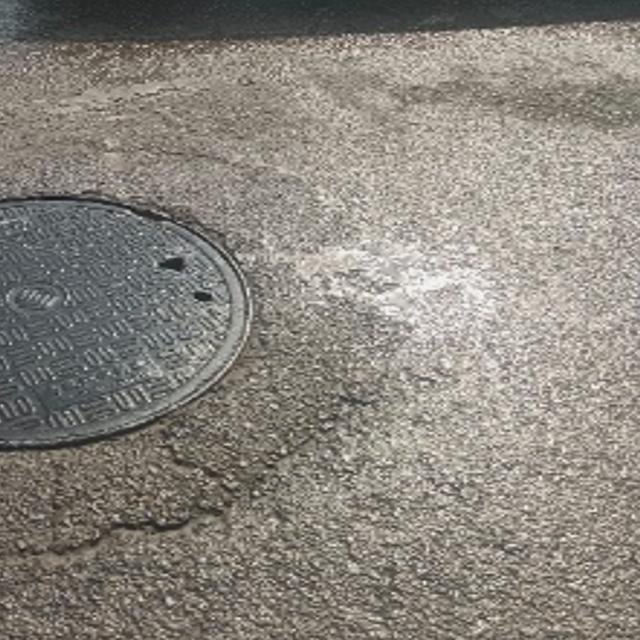good: (0, 192, 252, 450)
